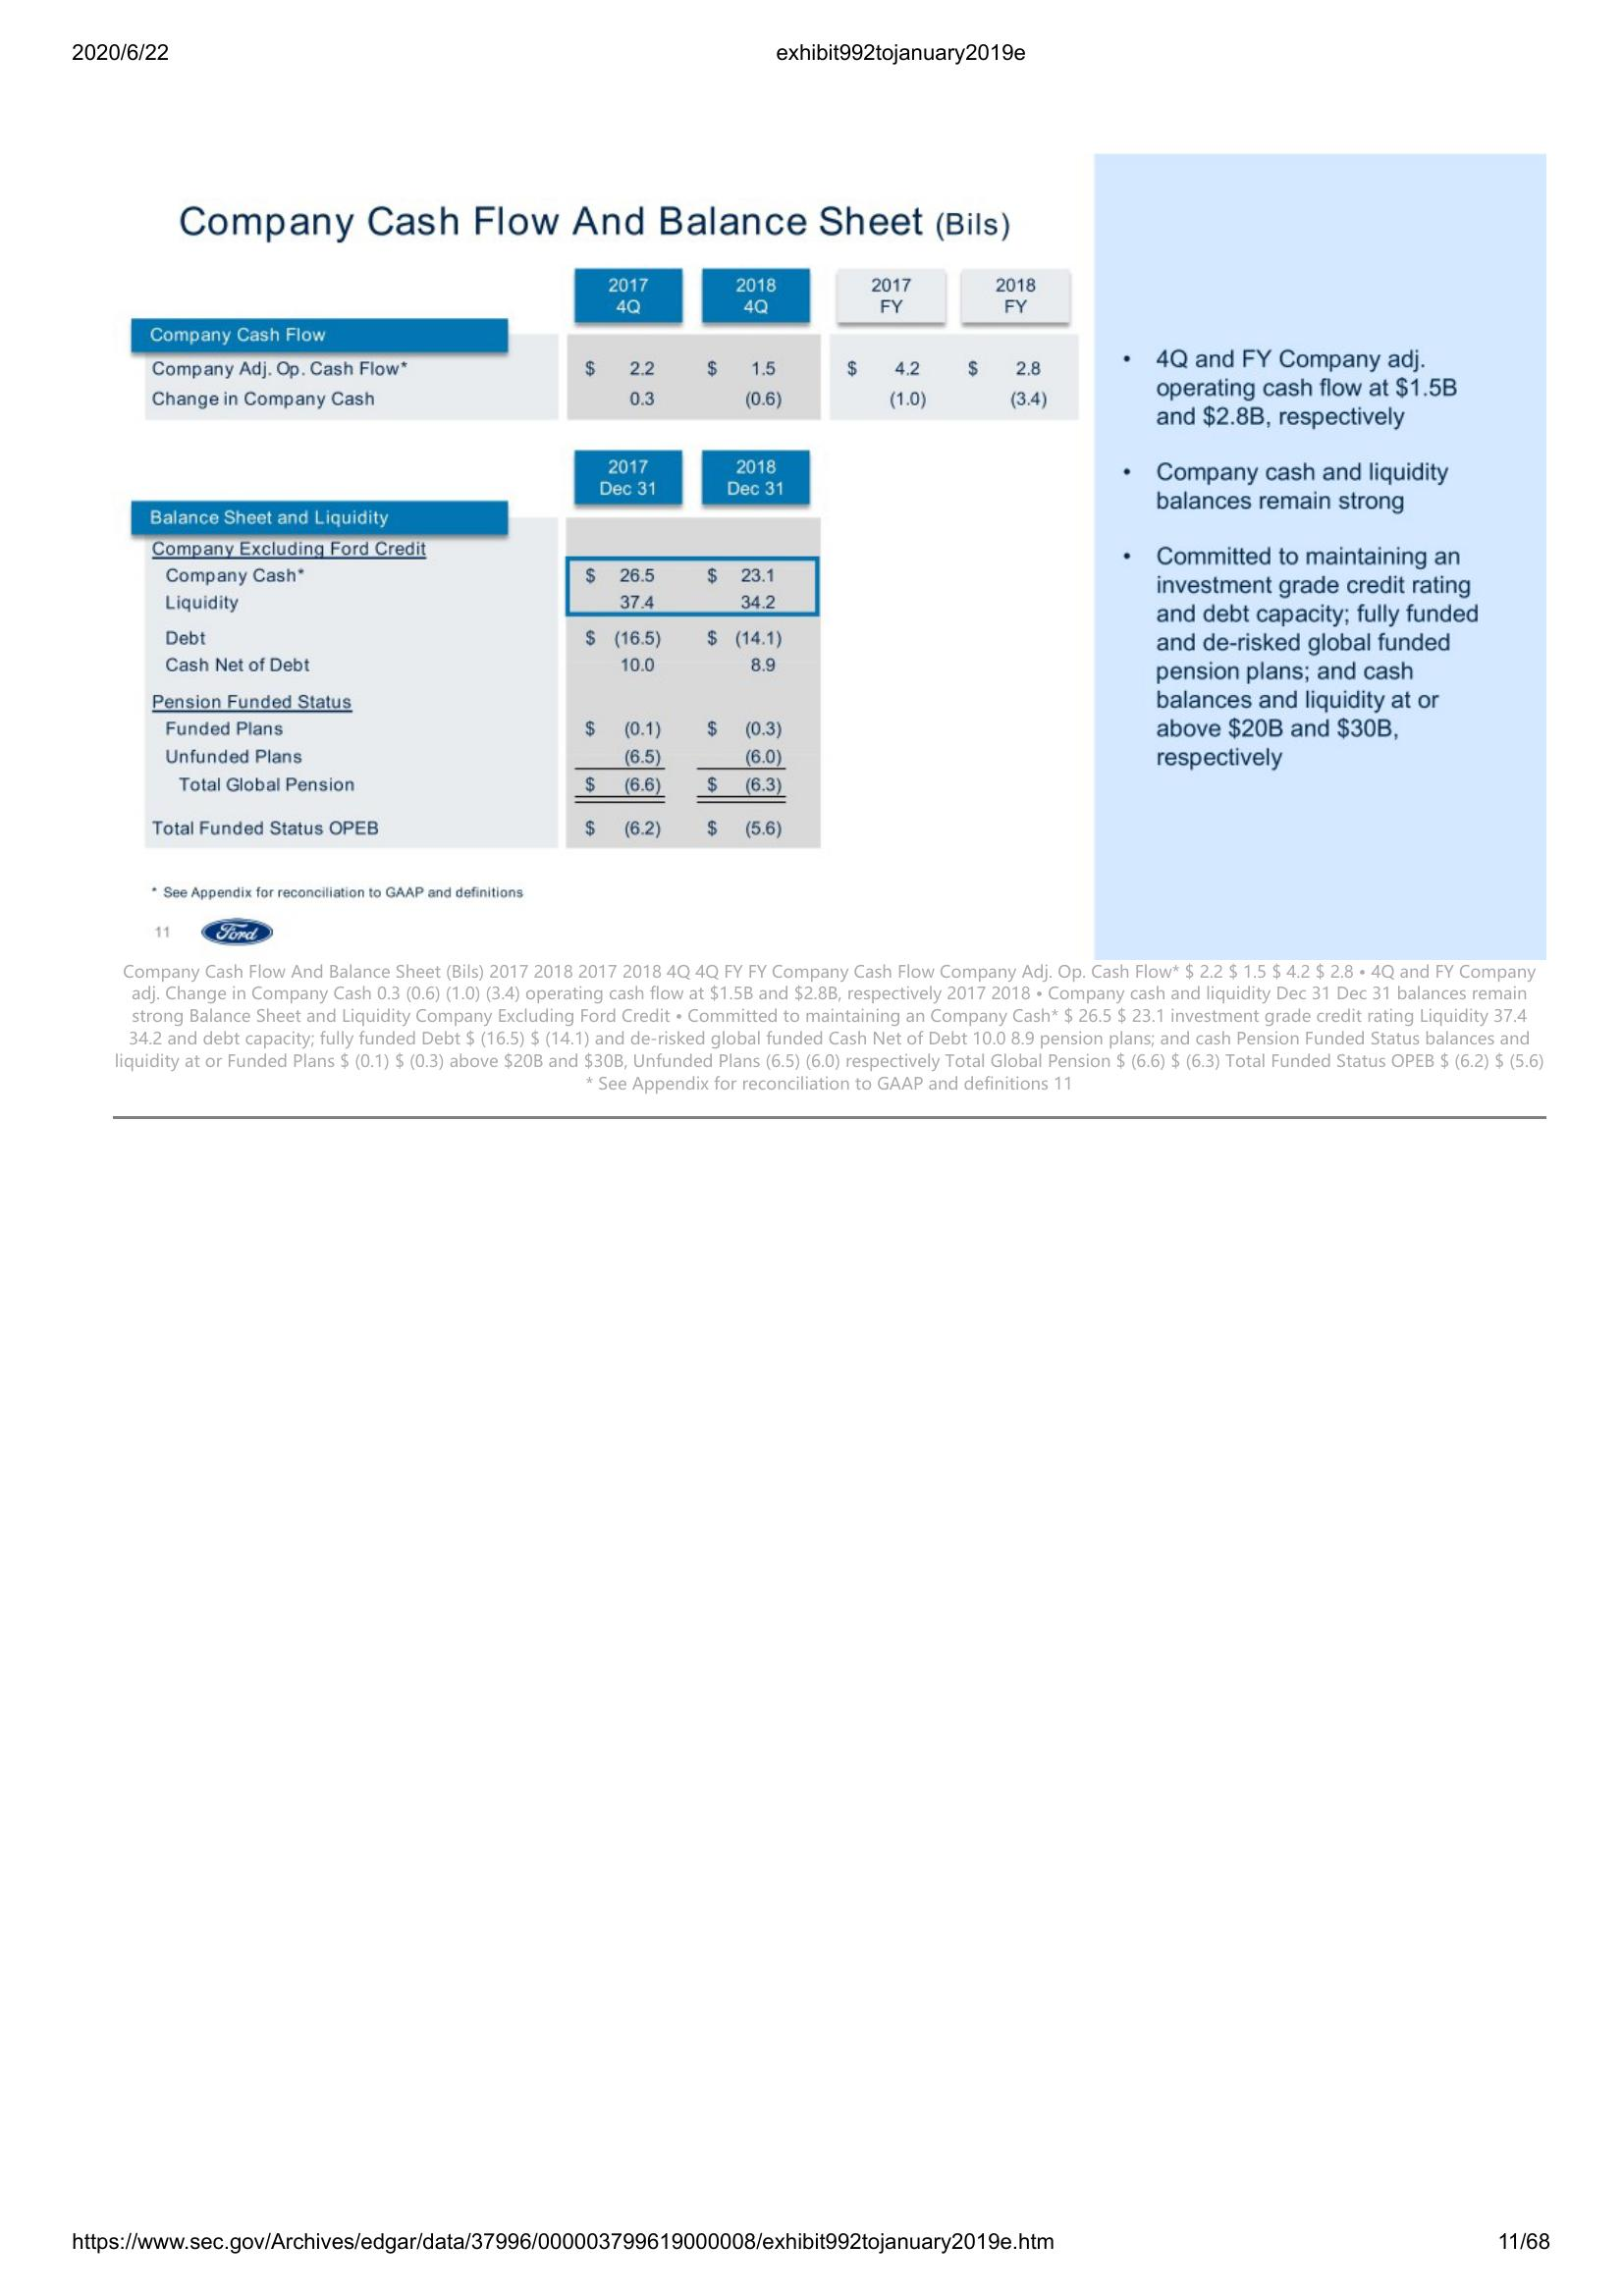table: (128, 253, 1077, 846)
